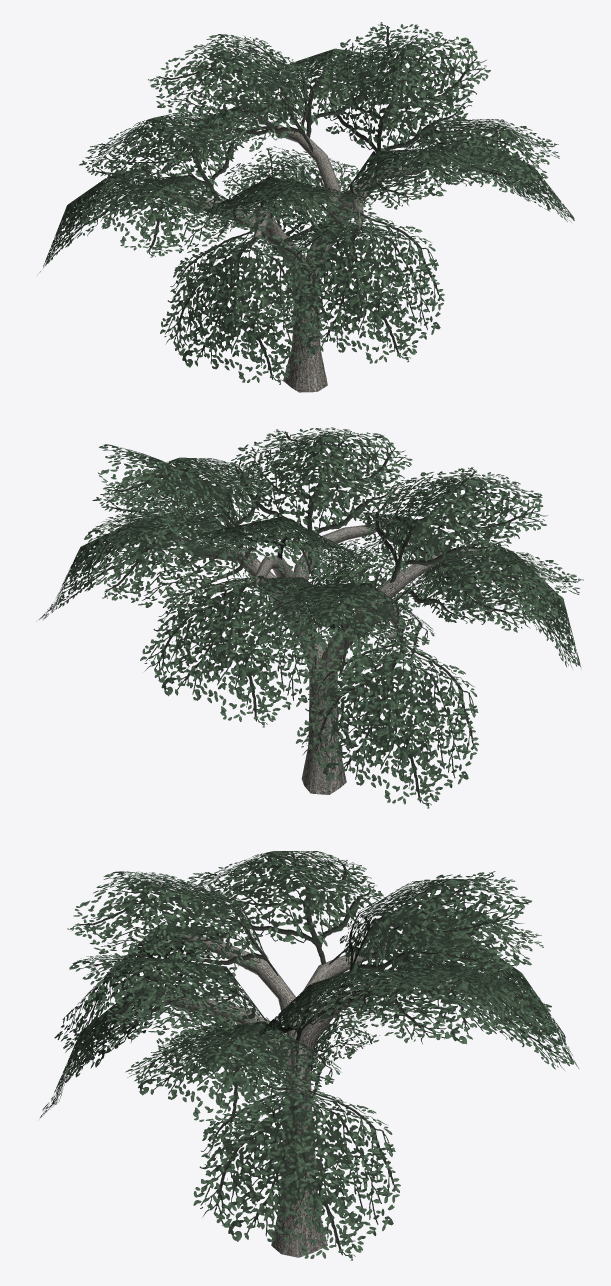
Rendered from sharp_mp05.gltf.
3 renders of one model, top to bottom at view 1: azimuth 30°, elevation 25°; view 2: azimuth 150°, elevation 25°; view 3: azimuth 270°, elevation 25°, orthographic. The views are drawn at different scales.
Visible parts, largest first — view 1: C, A, B, Trunk, D; view 2: C, A, B, Trunk, D; view 3: A, B, C, Trunk, D.
Boxes of the visible parts, x1,y1,x2,y2 form: C: (39, 102, 574, 384); A: (148, 22, 505, 231); B: (76, 48, 559, 257); Trunk: (144, 114, 463, 392); D: (222, 146, 401, 254); C: (36, 512, 581, 808); A: (98, 427, 547, 582); B: (84, 457, 583, 683); Trunk: (156, 519, 487, 794); D: (226, 536, 434, 640); A: (67, 871, 531, 1042); B: (125, 851, 553, 1132); C: (39, 924, 578, 1260); Trunk: (154, 934, 437, 1257); D: (156, 994, 408, 1102).
Size of the model in its own units: 41.66 by 23.22 by 34.57.
2 materials, 2 textured.
